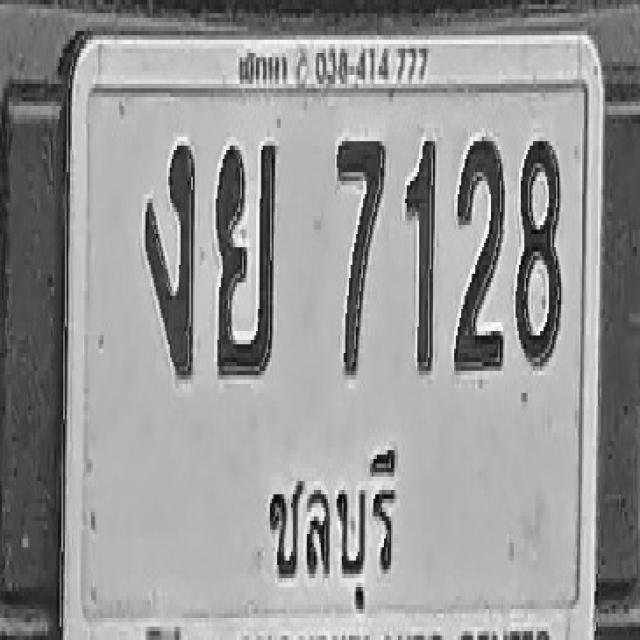1: (404, 137, 436, 375)
16NgorNgu: (143, 144, 194, 378)
2: (454, 137, 503, 371)
43YorYak: (215, 141, 276, 375)
7: (336, 137, 385, 375)
8: (516, 137, 561, 366)
Chonburi: (253, 437, 429, 631)
